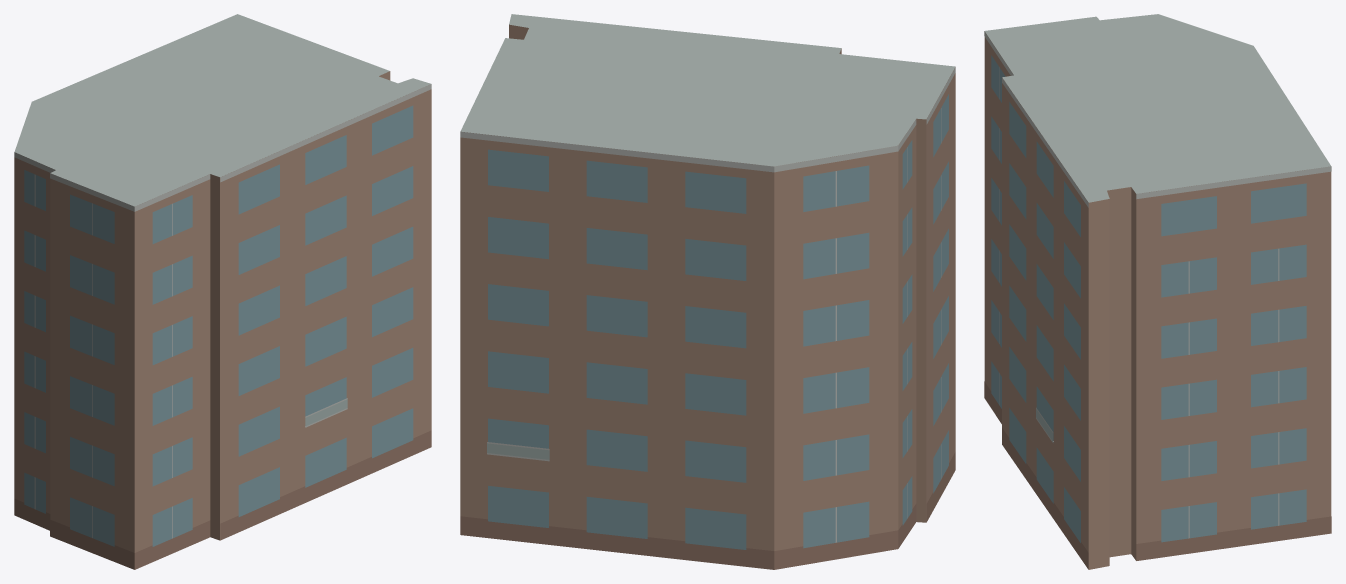
File: survey-upis-32858270.glb
3 views of the same model, side by side, from view 1: azimuth 30°, elevation 25°; view 2: azimuth 150°, elevation 25°; view 3: azimuth 270°, elevation 25° (orthographic). The views are drawn at different scales.
Parts seen in each view (by area): view 1: survey-upis-32858270.tmp; view 2: survey-upis-32858270.tmp; view 3: survey-upis-32858270.tmp.
Boxes of the visible parts, bbox=[...] form: survey-upis-32858270.tmp: bbox=[14, 14, 431, 569]; survey-upis-32858270.tmp: bbox=[460, 14, 955, 569]; survey-upis-32858270.tmp: bbox=[984, 14, 1331, 569].
Bounding box in the file's own units: 18.58 × 16.85 × 14.44.
